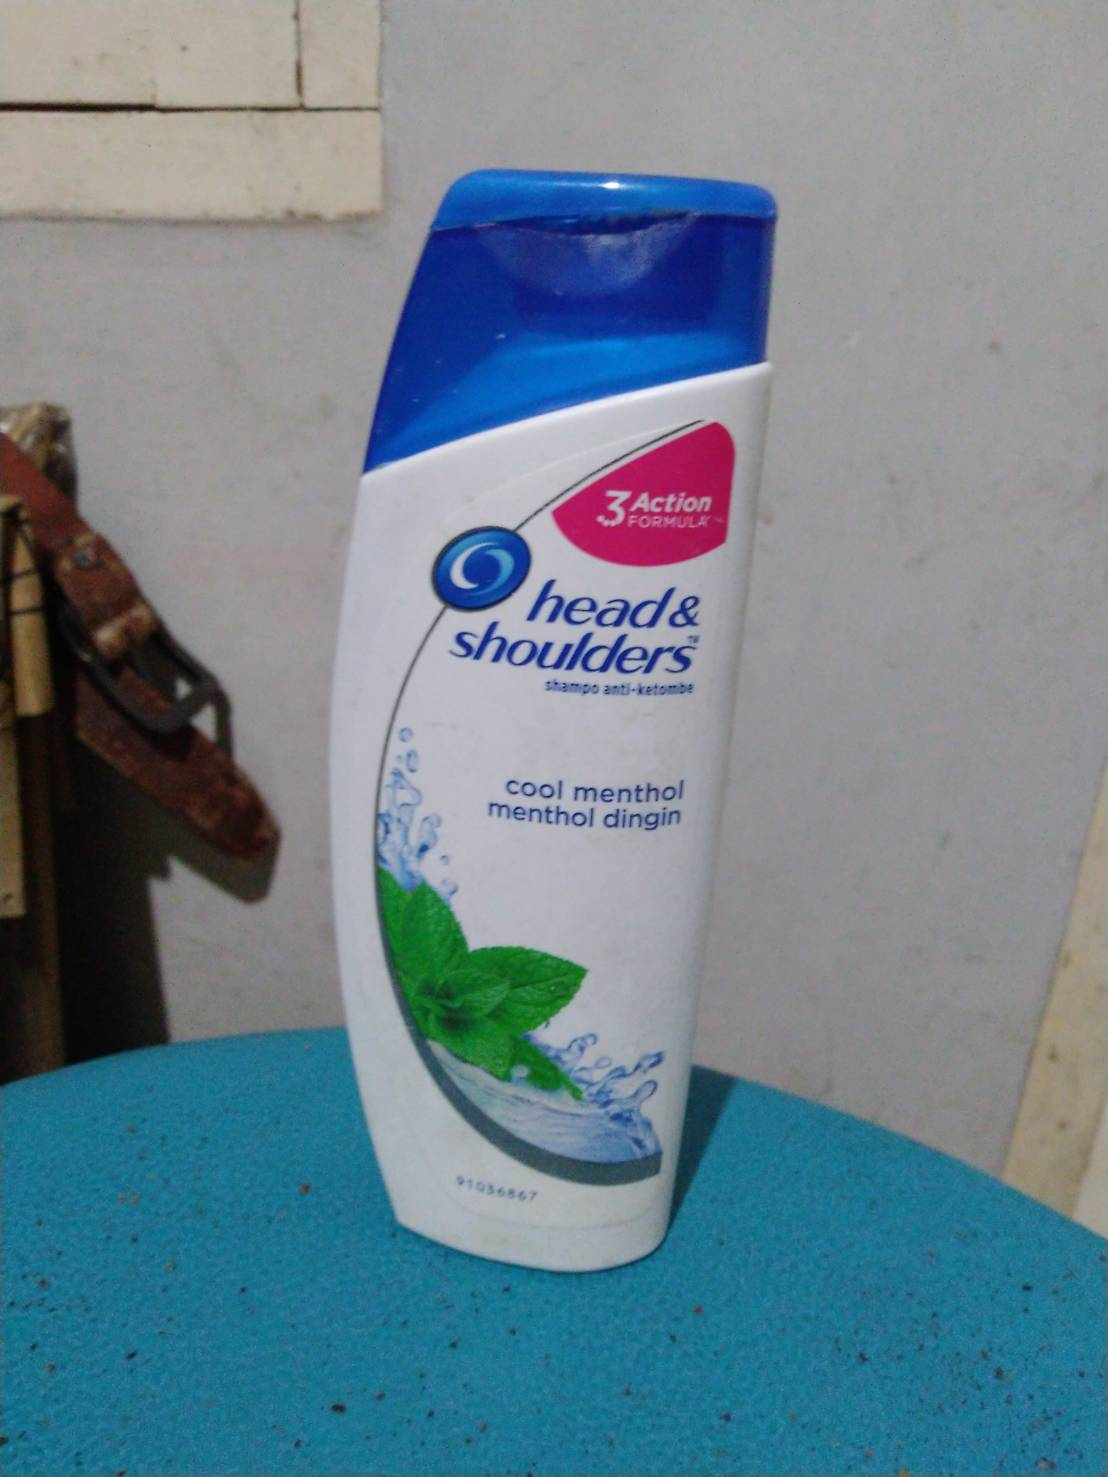HDPE: (332, 170, 782, 1278)
